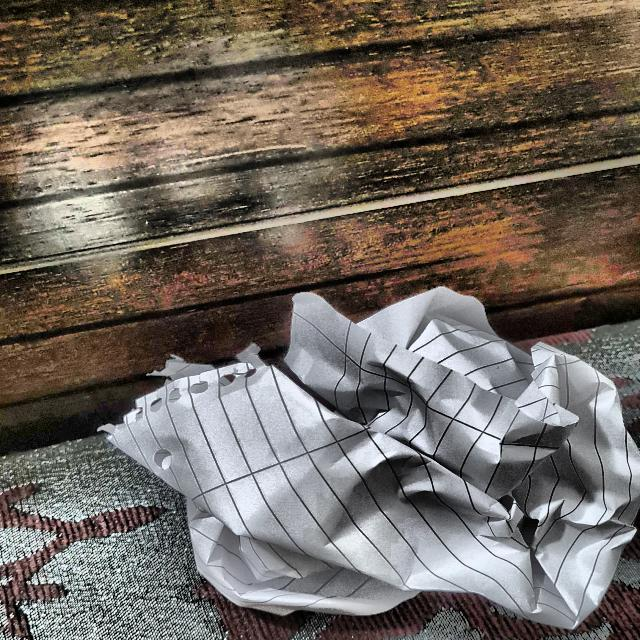paper: (74, 293, 640, 640)
